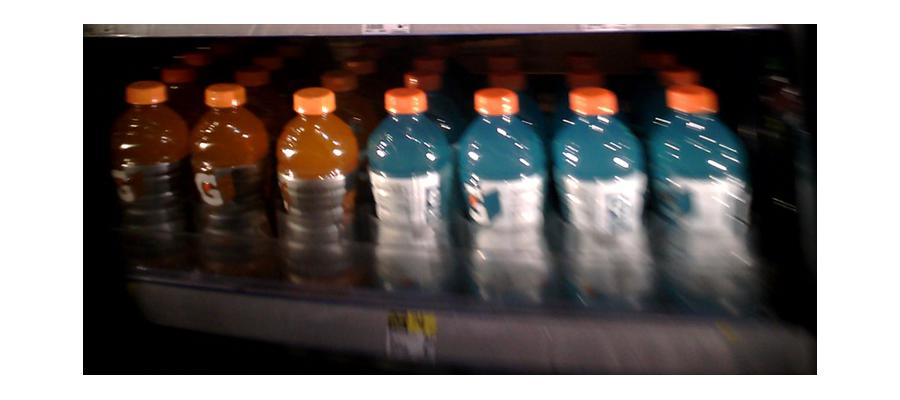bottle: (650, 94, 756, 316), (554, 90, 647, 313), (459, 91, 547, 310), (364, 91, 453, 295), (275, 87, 354, 291), (189, 84, 267, 281), (111, 79, 185, 272)
